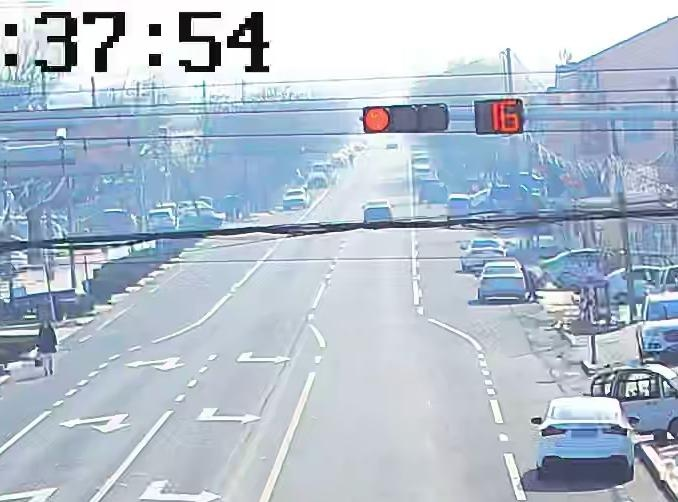red: (363, 110, 392, 133)
redtime: (477, 102, 525, 131)
